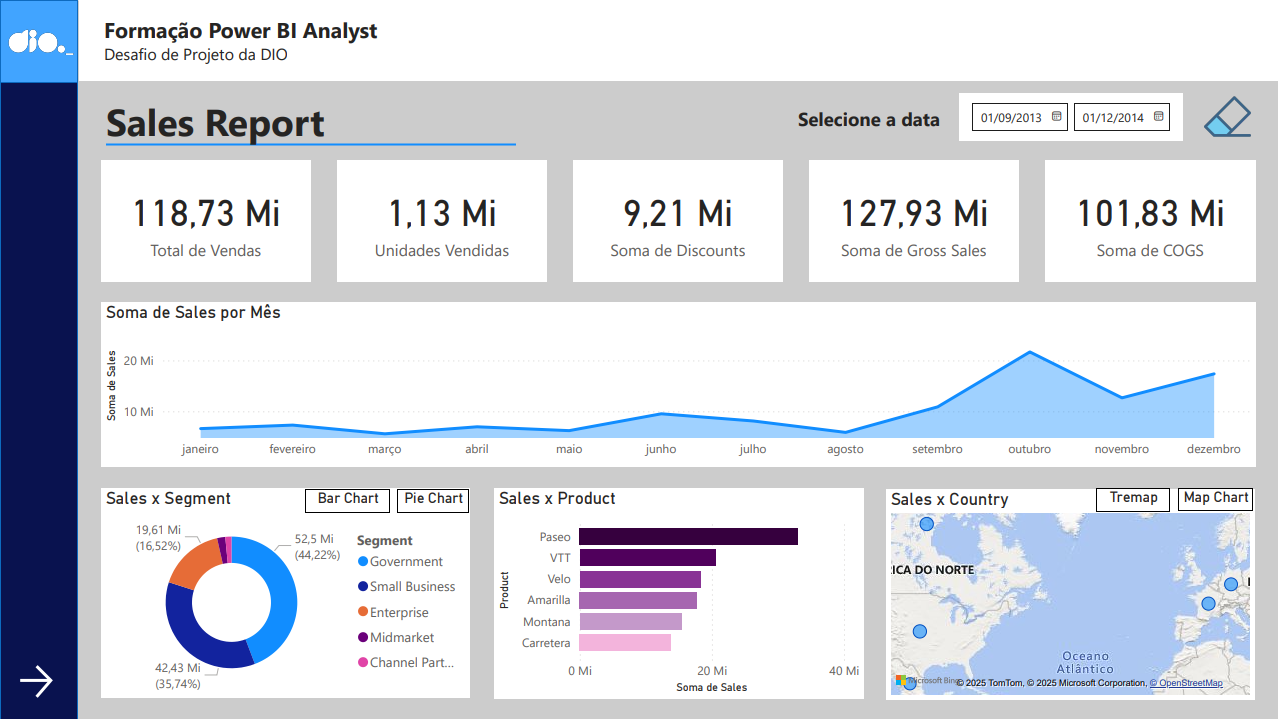

Layout of this report page (visuals, bound fields, positions):
{"tool":"powerbi","page":{"name":"Página 1","canvas":[1280,720],"ordinal":0},"visuals":[{"type":"shape","title":"Fundo","box":[0,0,1280,720],"z":0},{"type":"shape","title":"Barra lateral - corpo","box":[0,0,77.9,720.1],"z":0,"group":"g2"},{"type":"shape","title":"Barra topo (branca)","box":[78.6,0,1201.4,81.4],"z":0,"group":"g3"},{"type":"card","fields":{"Values":["Sum(financials.Sales)"]},"box":[101.3,160,210.2,121.9],"z":0,"group":"g1"},{"type":"donutChart","title":"Sales x Segment","fields":{"Y":["Sum(financials.Sales)"],"Category":["financials.Segment"]},"box":[100.8,487.6,369.5,210.2],"z":0,"group":"g5"},{"type":"map","title":"Sales x Country","fields":{"Category":["financials.Country"],"Size":["Sum(financials.Sales)"]},"box":[885.8,489.4,369.5,210.2],"z":0,"group":"g4"},{"type":"shape","title":"Barra lateral - ponta","box":[0,0,77.9,83.3],"z":1000,"group":"g2"},{"type":"textbox","title":"Texto topo","box":[98.6,10,342.9,71.4],"z":1000,"group":"g3"},{"type":"card","fields":{"Values":["Sum(financials.Units Sold)"]},"box":[337.3,160,210.2,121.9],"z":1000,"group":"g1"},{"type":"areaChart","fields":{"Category":["financials.Date.Variation.Hierarquia de datas.Mês"],"Y":["Sum(financials.Sales)"]},"box":[101.3,301.8,1154.4,165.4],"z":1000},{"type":"actionButton","title":"Tremap","box":[1095.8,488,74.3,24.3],"z":1500,"group":"g4"},{"type":"image","title":"logo dio","box":[2.2,1.1,77.8,79.5],"z":2000,"group":"g2"},{"type":"card","fields":{"Values":["Sum(financials.Discounts)"]},"box":[573.4,160,210.2,121.9],"z":2000,"group":"g1"},{"type":"actionButton","title":"Map Chart","box":[1177.4,488,75.7,23],"z":2000,"group":"g4"},{"type":"clusteredBarChart","title":"Sales x Product","fields":{"Y":["Sum(financials.Sales)"],"Category":["financials.Product"]},"box":[494.3,488.4,369.5,210.2],"z":2000},{"type":"actionButton","title":"Bar Chart","box":[304.7,488.9,84.9,23.7],"z":2000,"group":"g5"},{"type":"image","title":"Borracha","box":[1198.6,85.7,57.1,61.4],"z":3000},{"type":"card","fields":{"Values":["Sum(financials.Gross Sales)"]},"box":[809.4,160,210.2,121.9],"z":3000,"group":"g1"},{"type":"actionButton","title":"Pie Chart","box":[396.9,488.9,72.4,23.7],"z":3000,"group":"g5"},{"type":"actionButton","title":"Seta","box":[14.3,660,50,42.9],"z":3000,"group":"g2"},{"type":"slicer","fields":{"Values":["financials.Date"]},"box":[958.6,92.9,224.3,48.6],"z":4000},{"type":"card","fields":{"Values":["Sum(financials.COGS)"]},"box":[1045.7,160,210.2,121.9],"z":4000,"group":"g1"},{"type":"textbox","title":"\"Seleciona a data\"","box":[792.9,101.4,154.3,40],"z":5000},{"type":"shape","title":"Sublinhado texto","box":[106.3,112.9,410,62.9],"z":6000},{"type":"textbox","title":"\"Sales Report\"","box":[101.4,91.4,235.7,62.9],"z":7000},{"type":"group","id":"g1","title":"Cartões","box":[101.3,160,1154.6,121.9],"z":8000},{"type":"group","id":"g2","title":"Barra lateral","box":[0,0,80,720.1],"z":9000},{"type":"group","id":"g3","title":"Barra topo","box":[78.6,0,1201.4,81.4],"z":10000},{"type":"group","id":"g4","title":"Sales x Country","box":[885.8,488,370.2,212.2],"z":10500},{"type":"group","id":"g5","title":"Sales x Segment","box":[100.8,487.6,370,211],"z":10750}]}

Visuals, with their boxes in screenshot pixels (x1, y1, x2, y2), scaled from the page's 1280x720 canvas onto the 1278x719 screenshot:
"Fundo" shape: x1=0 y1=0 x2=1277 y2=718
"Barra lateral - corpo" shape: x1=0 y1=0 x2=78 y2=718
"Barra topo (branca)" shape: x1=78 y1=0 x2=1277 y2=81
card - Sum(financials.Sales): x1=101 y1=160 x2=311 y2=282
"Sales x Segment" donutChart: x1=101 y1=487 x2=470 y2=697
"Sales x Country" map: x1=884 y1=489 x2=1253 y2=699
"Barra lateral - ponta" shape: x1=0 y1=0 x2=78 y2=83
"Texto topo" textbox: x1=98 y1=10 x2=441 y2=81
card - Sum(financials.Units Sold): x1=337 y1=160 x2=547 y2=282
areaChart - financials.Date.Variation.Hierarquia de datas.Mês x Sum(financials.Sales): x1=101 y1=301 x2=1254 y2=467
"Tremap" actionButton: x1=1094 y1=487 x2=1168 y2=512
"logo dio" image: x1=2 y1=1 x2=80 y2=80
card - Sum(financials.Discounts): x1=573 y1=160 x2=782 y2=282
"Map Chart" actionButton: x1=1176 y1=487 x2=1251 y2=510
"Sales x Product" clusteredBarChart: x1=494 y1=488 x2=862 y2=698
"Bar Chart" actionButton: x1=304 y1=488 x2=389 y2=512
"Borracha" image: x1=1197 y1=86 x2=1254 y2=147
card - Sum(financials.Gross Sales): x1=808 y1=160 x2=1018 y2=282
"Pie Chart" actionButton: x1=396 y1=488 x2=469 y2=512
"Seta" actionButton: x1=14 y1=659 x2=64 y2=702
slicer - financials.Date: x1=957 y1=93 x2=1181 y2=141
card - Sum(financials.COGS): x1=1044 y1=160 x2=1254 y2=282
""Seleciona a data"" textbox: x1=792 y1=101 x2=946 y2=141
"Sublinhado texto" shape: x1=106 y1=113 x2=515 y2=176
""Sales Report"" textbox: x1=101 y1=91 x2=337 y2=154
"Cartões" group: x1=101 y1=160 x2=1254 y2=282
"Barra lateral" group: x1=0 y1=0 x2=80 y2=718
"Barra topo" group: x1=78 y1=0 x2=1277 y2=81
"Sales x Country" group: x1=884 y1=487 x2=1254 y2=699
"Sales x Segment" group: x1=101 y1=487 x2=470 y2=698
